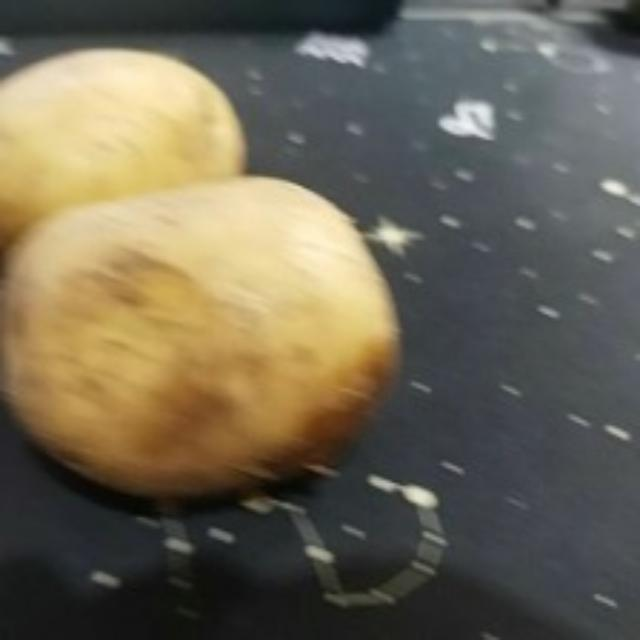Damaged potato: (4, 180, 412, 520)
Potato: (3, 47, 255, 291)
